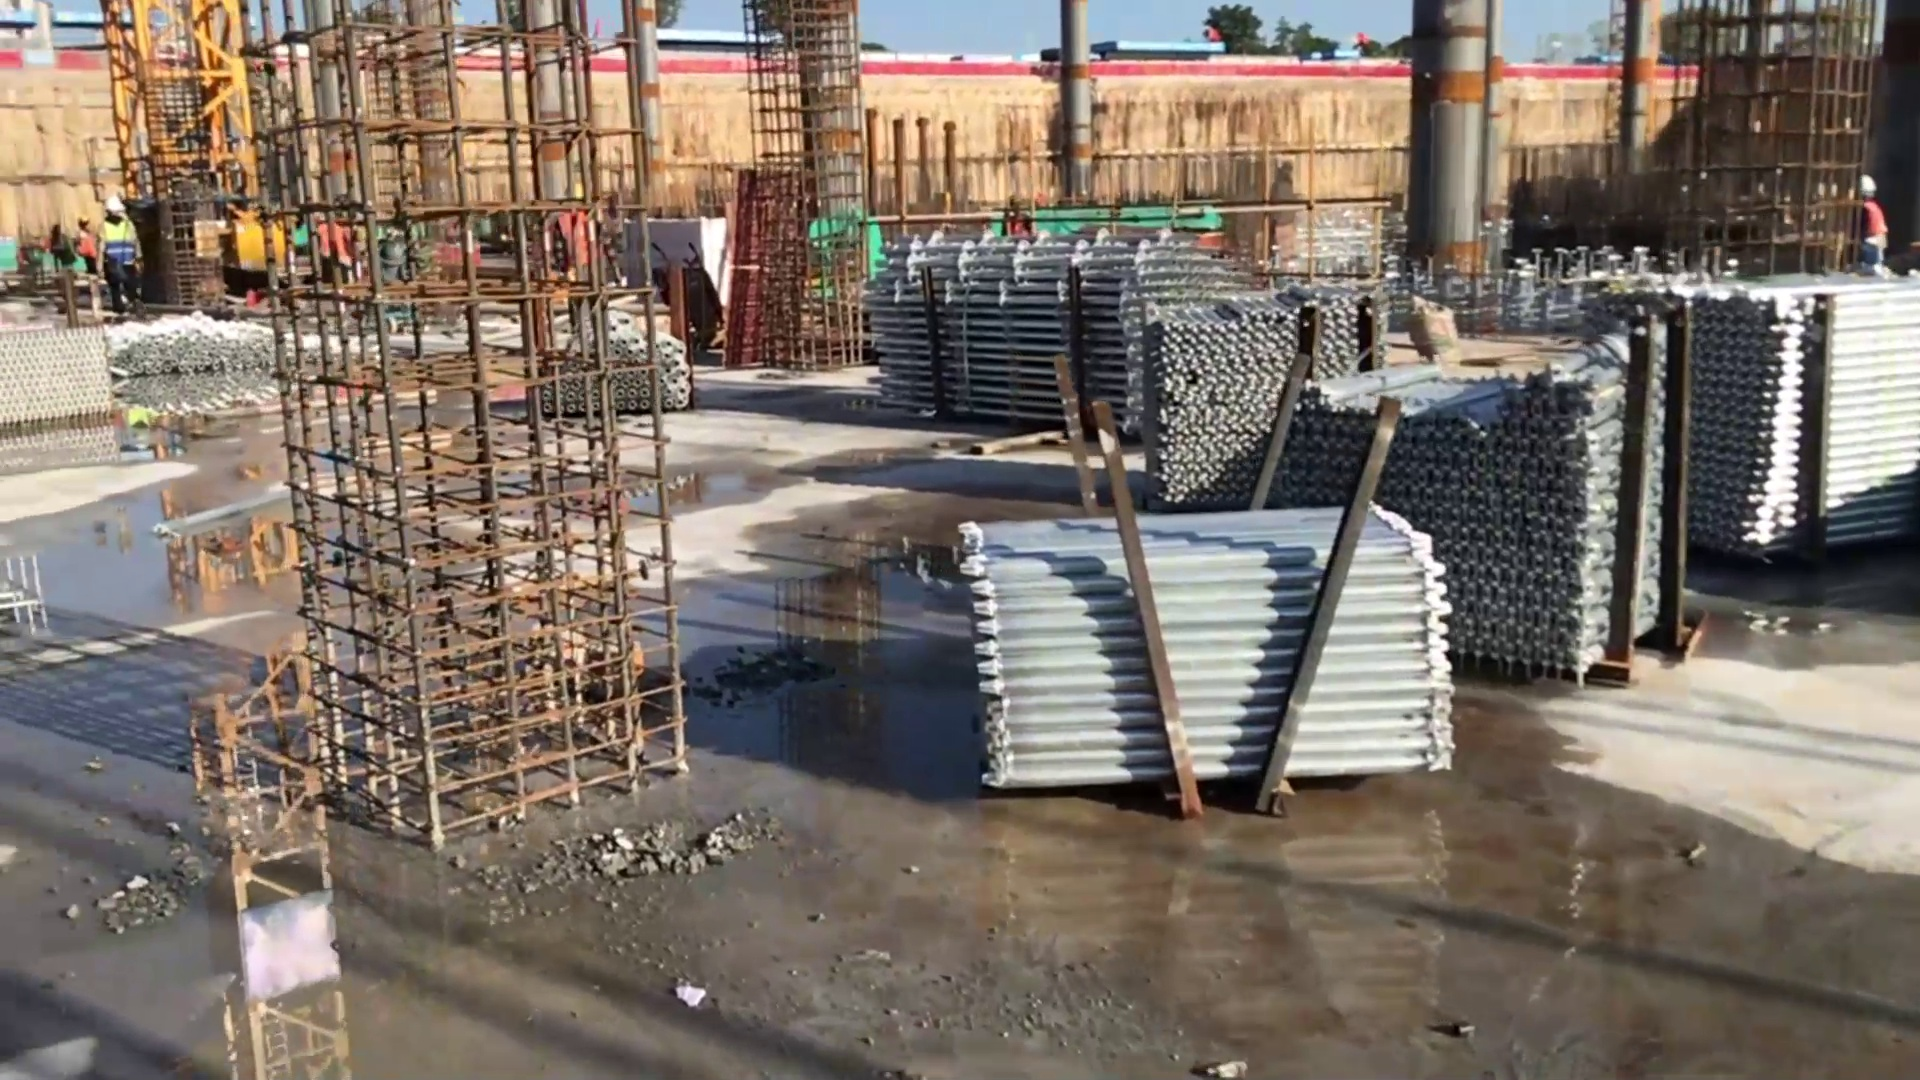person: (96, 192, 146, 315), (66, 214, 101, 291)
scaffold: (968, 505, 1462, 775), (1303, 354, 1670, 678), (1617, 284, 1920, 546), (879, 235, 1198, 418), (1151, 305, 1384, 501), (551, 331, 694, 412)
